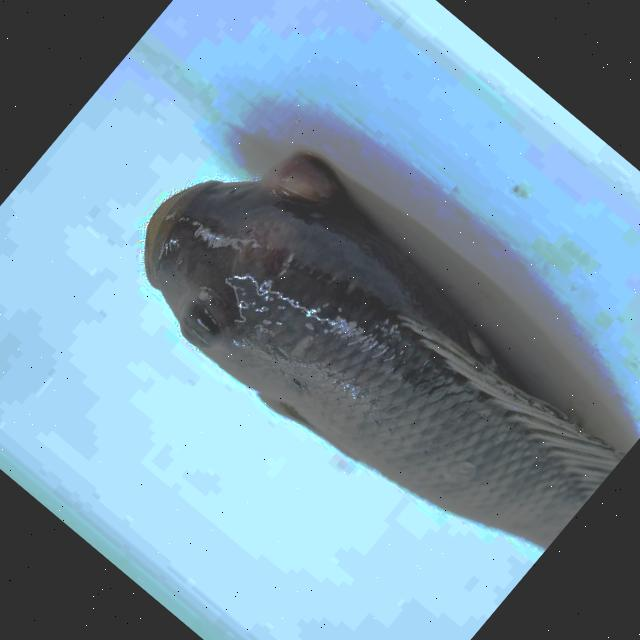Streptococcus: (144, 147, 622, 550)
